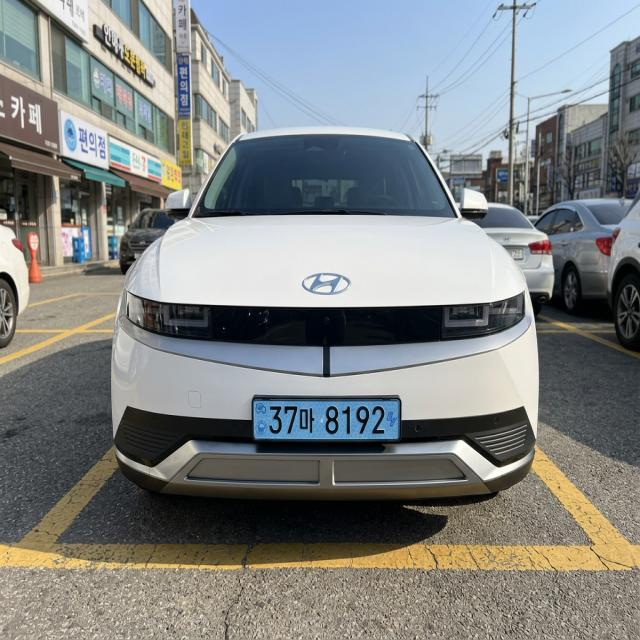car: (235, 383, 419, 455)
carev: (250, 396, 270, 444), (382, 395, 400, 448)
